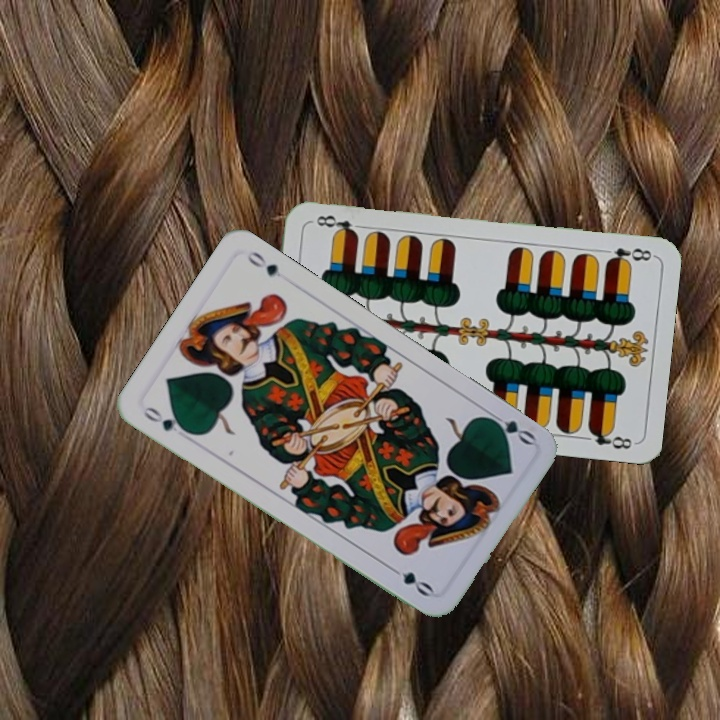E8: (602, 243, 655, 268)
GO: (481, 407, 538, 448), (139, 402, 193, 437)
